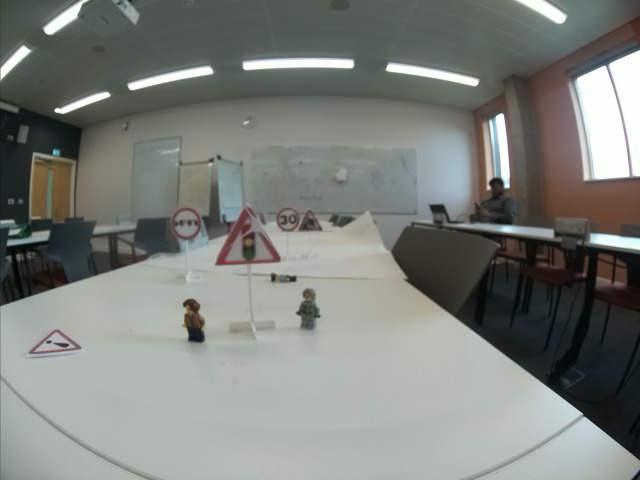30mph: (276, 207, 301, 230)
6ft6: (170, 206, 203, 240)
Lego Man: (294, 287, 325, 330), (179, 297, 206, 342), (268, 269, 299, 284)
Roadworks: (297, 209, 325, 232)
Traffic lights: (212, 202, 283, 269)
Warning: (26, 326, 86, 358)
